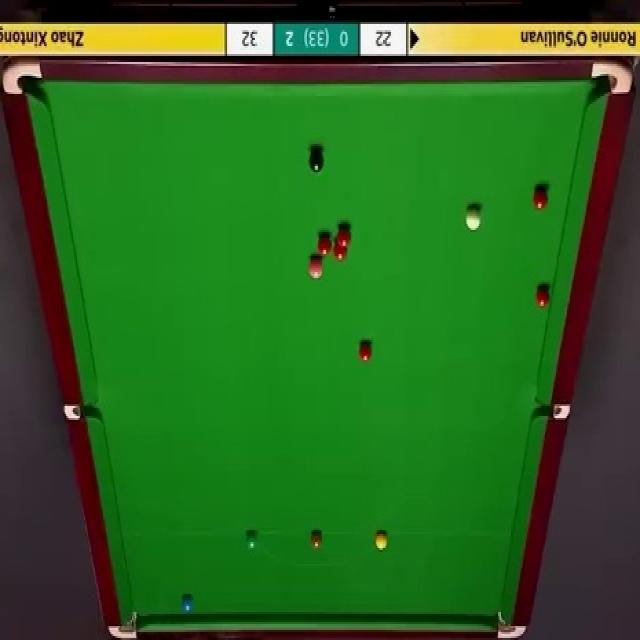black-ball: (309, 150, 325, 173)
blue-ball: (182, 592, 192, 613)
brown-ball: (310, 531, 323, 548)
green-ball: (244, 528, 258, 552)
pink-ball: (308, 257, 324, 281)
red-ball: (534, 284, 552, 310), (316, 233, 332, 257), (533, 189, 550, 210), (333, 238, 347, 262), (358, 343, 374, 362), (337, 227, 351, 248)
white-ball: (467, 205, 482, 232)
yellow-ball: (374, 530, 388, 551)
